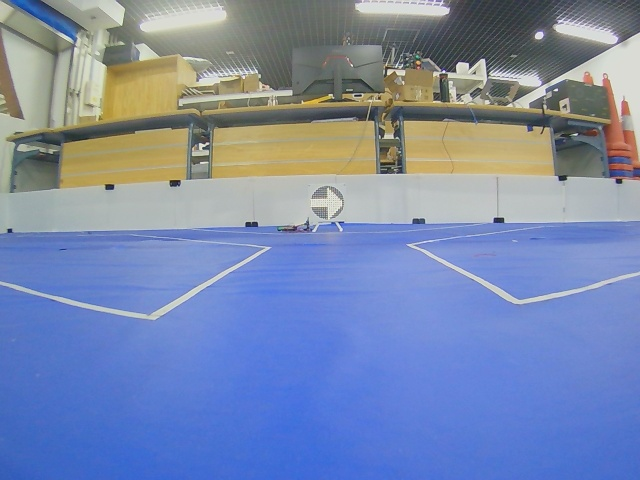right_yellow: (311, 186, 344, 221)
